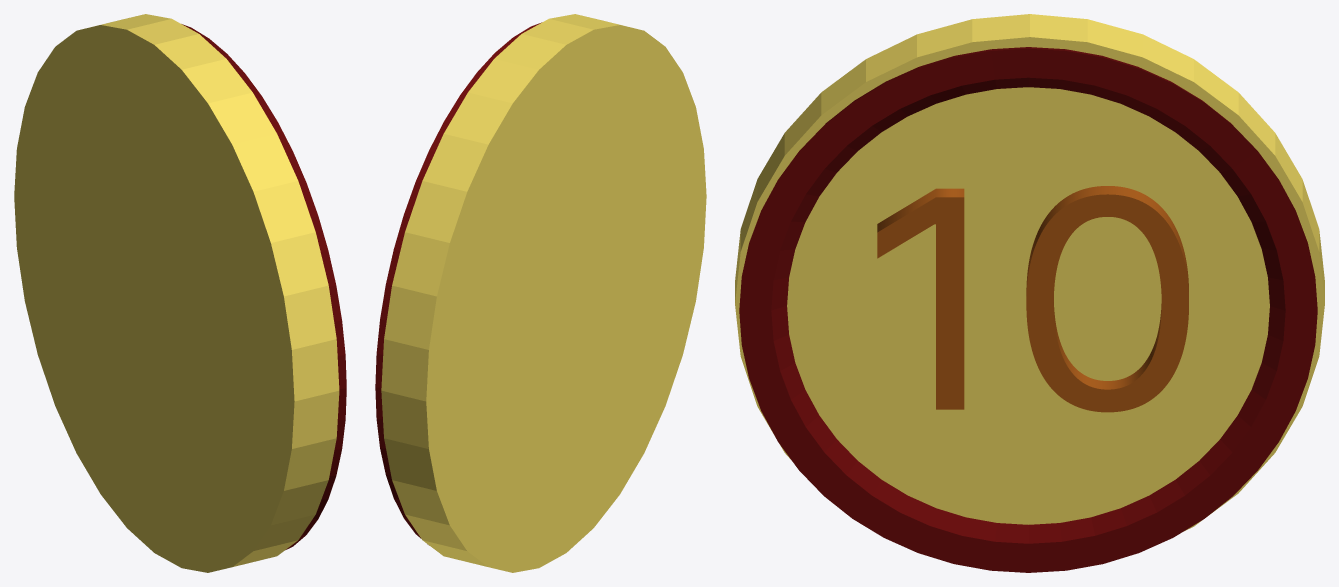
File: coin.glb
3 views of the same model, side by side, from view 1: azimuth 30°, elevation 25°; view 2: azimuth 150°, elevation 25°; view 3: azimuth 270°, elevation 25° (orthographic). The views are drawn at different scales.
Visible parts, largest first — view 1: Cylinder, Torus; view 2: Cylinder, Torus; view 3: Cylinder, Torus, GN Instance.
Boxes of the visible parts, x1,y1,x2,y2 form: Cylinder: (14,14,339,572); Torus: (182,24,346,549); Cylinder: (381,14,706,572); Torus: (375,22,541,544); Cylinder: (735,14,1324,531); Torus: (739,47,1317,572); GN Instance: (877,186,1188,412).
Size of the model in its own units: 0.2538 by 2 by 2.
